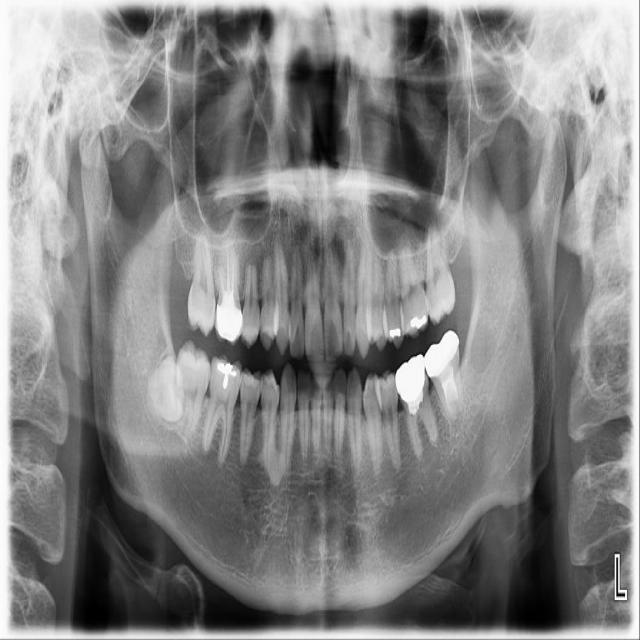52: (414, 325, 467, 383), (201, 349, 249, 400), (398, 290, 431, 339), (214, 295, 244, 346), (395, 353, 426, 400), (381, 306, 406, 350)
73: (397, 374, 442, 458), (427, 348, 468, 423), (212, 219, 240, 302), (614, 608, 624, 620)
BioHorizons Implant: (424, 205, 457, 326)
Blue Sky Bio Implant: (420, 328, 468, 431)
Caries: (186, 230, 219, 337)
Implant: (175, 340, 211, 443)
Keystone Dental Implant: (143, 352, 188, 422)
